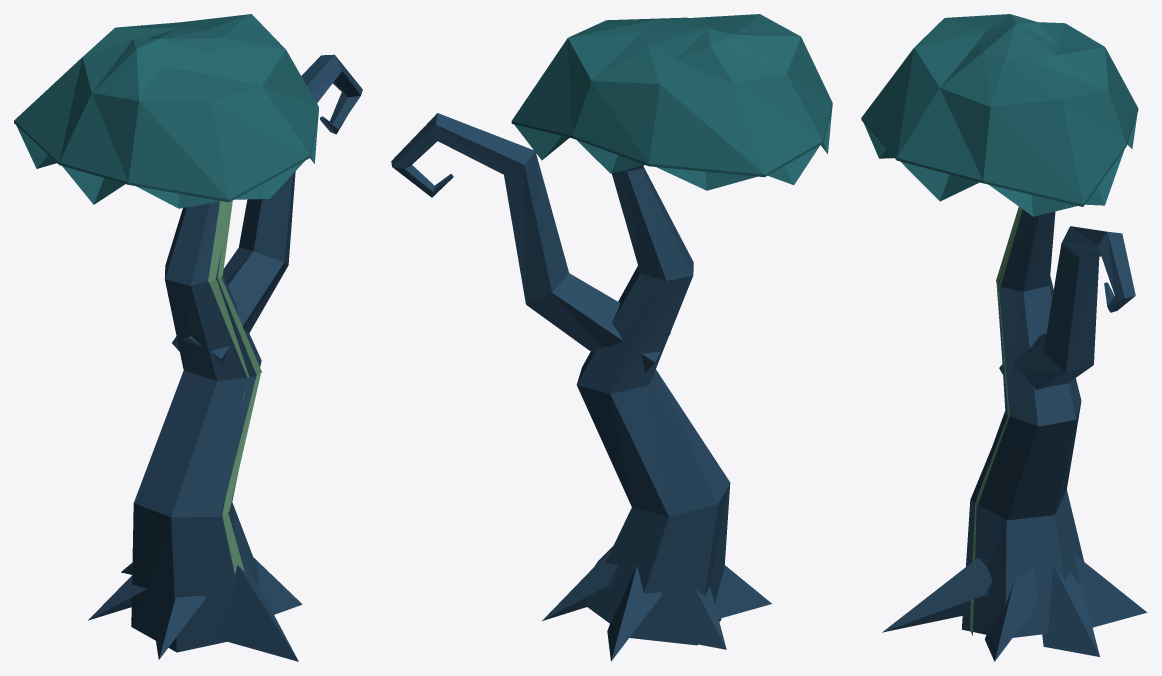
3 renders of one model, left to right at view 1: azimuth 30°, elevation 25°; view 2: azimuth 150°, elevation 25°; view 3: azimuth 270°, elevation 25°, orthographic. The views are drawn at different scales.
Visible parts, largest first — view 1: 复用森林树_4.001; view 2: 复用森林树_4.001; view 3: 复用森林树_4.001.
Part boxes in pixels (left/top/right/bottom): 复用森林树_4.001: left=14, top=14, right=362, bottom=661; 复用森林树_4.001: left=391, top=14, right=832, bottom=661; 复用森林树_4.001: left=861, top=14, right=1146, bottom=661.
Size of the model in its own units: 0.3882 by 0.6087 by 0.2687.
